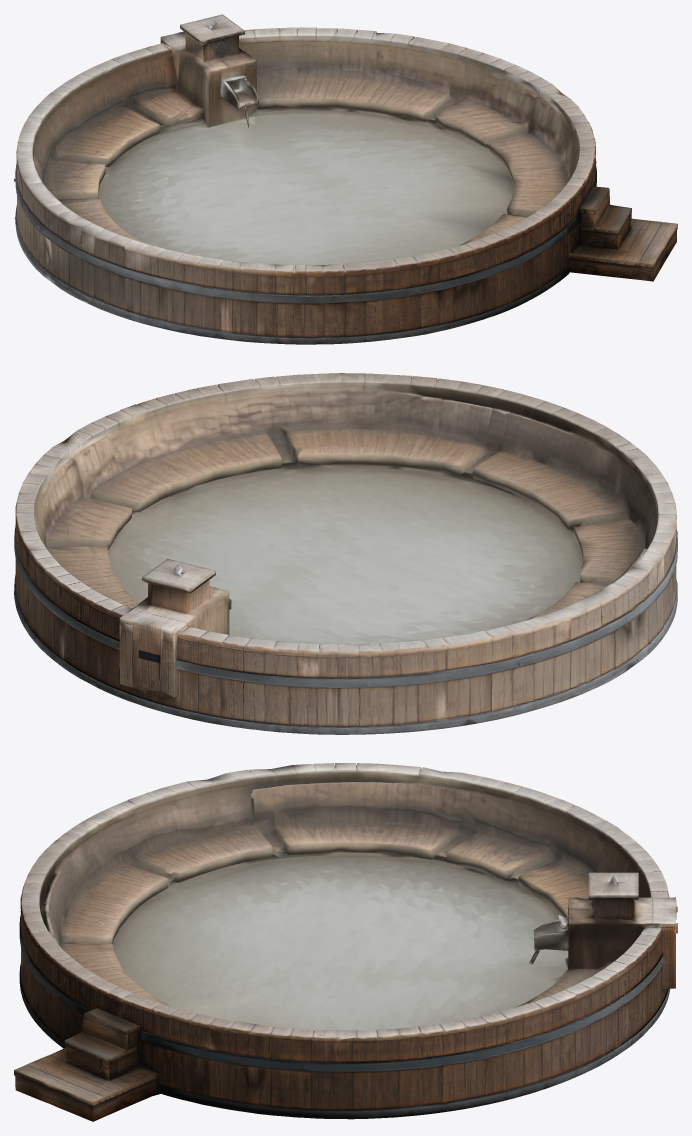
File: bath.glb
3 renders of one model, top to bottom at view 1: azimuth 30°, elevation 25°; view 2: azimuth 150°, elevation 25°; view 3: azimuth 270°, elevation 25°, orthographic. The views are drawn at different scales.
Visible parts, largest first — view 1: tripo_node_cdd6ba1b-06a8-48f3-b775-05fbde9191e3; view 2: tripo_node_cdd6ba1b-06a8-48f3-b775-05fbde9191e3; view 3: tripo_node_cdd6ba1b-06a8-48f3-b775-05fbde9191e3.
Boxes of the visible parts, x1=… form: tripo_node_cdd6ba1b-06a8-48f3-b775-05fbde9191e3: x1=14, y1=14, x2=677, y2=344; tripo_node_cdd6ba1b-06a8-48f3-b775-05fbde9191e3: x1=14, y1=373, x2=677, y2=734; tripo_node_cdd6ba1b-06a8-48f3-b775-05fbde9191e3: x1=14, y1=763, x2=677, y2=1121.
Size of the model in its own units: 0.9792 by 0.199 by 0.9822.
1 material, 1 textured.
